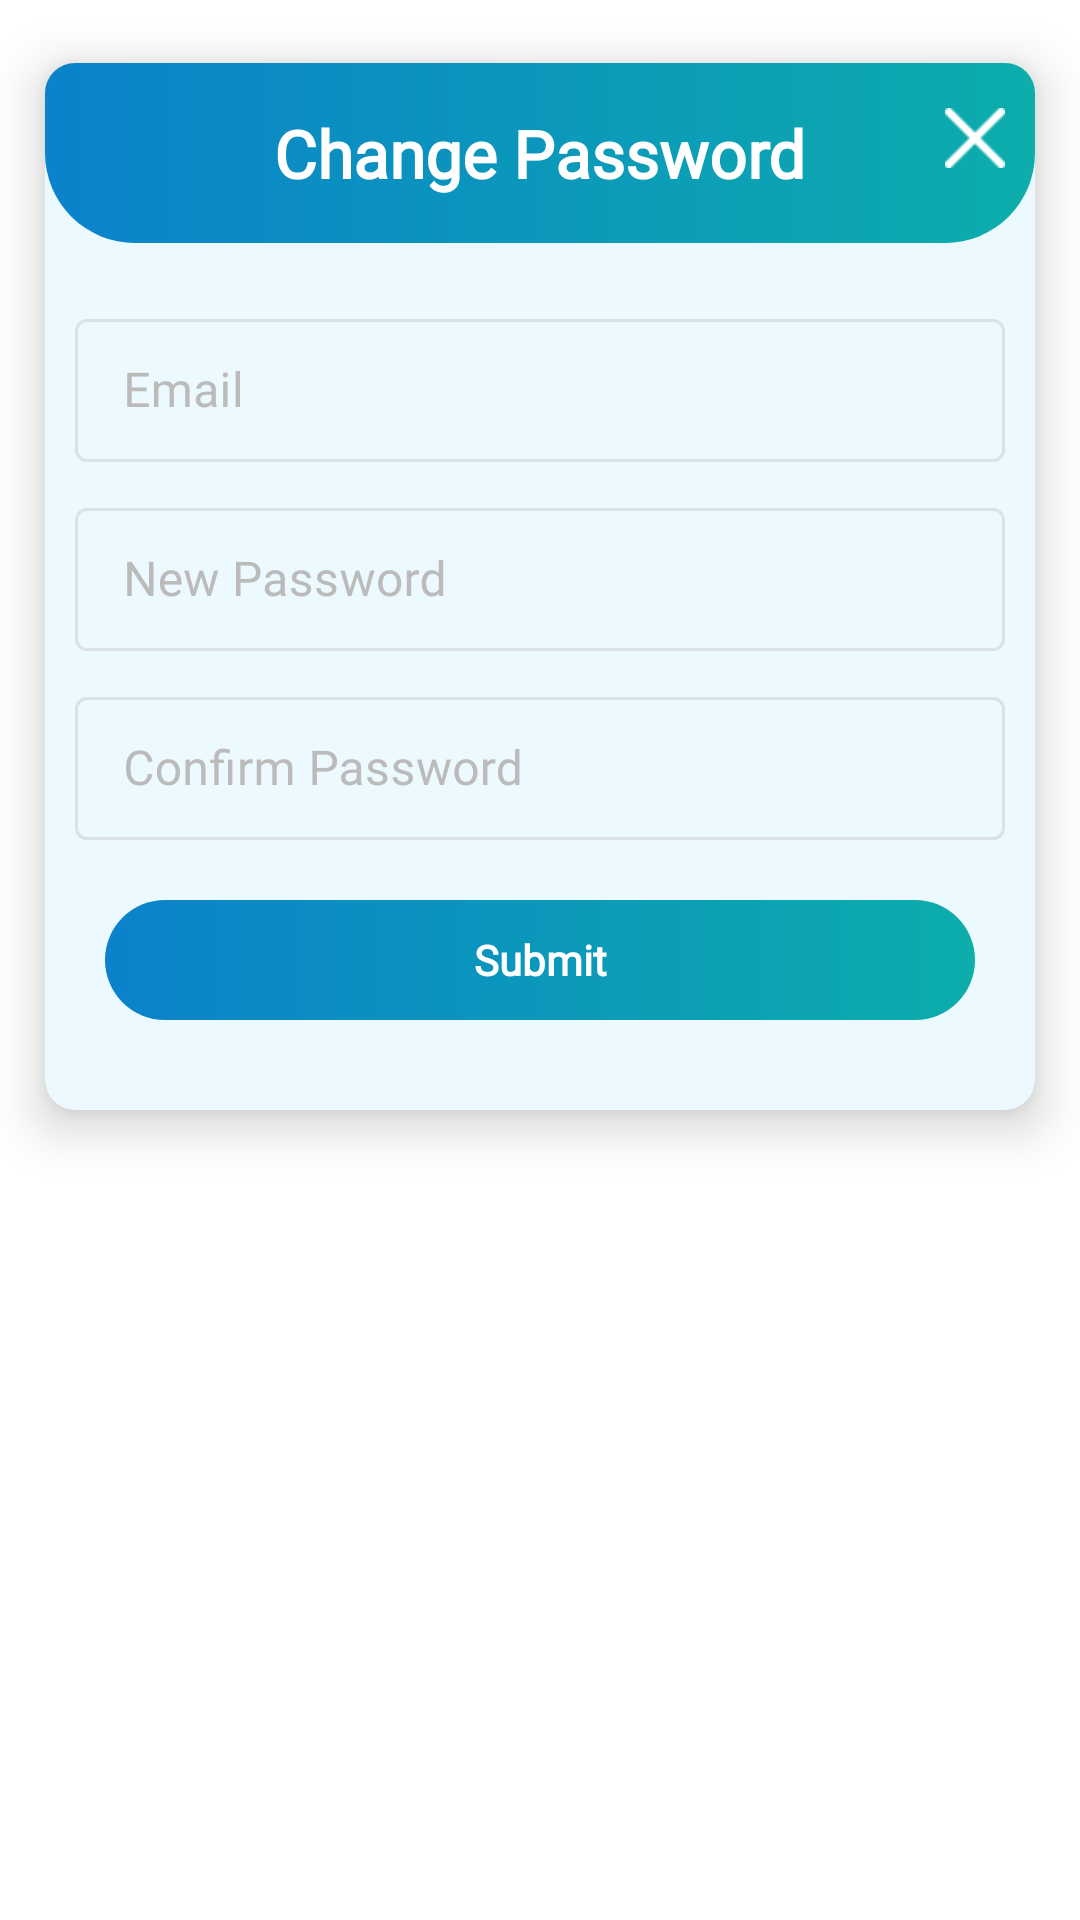

Icon bounding boxes for this 1080px x 1920px phone screenshot, format Rect(x1, y1, x2, y2):
close: Rect(945, 108, 1005, 168)
